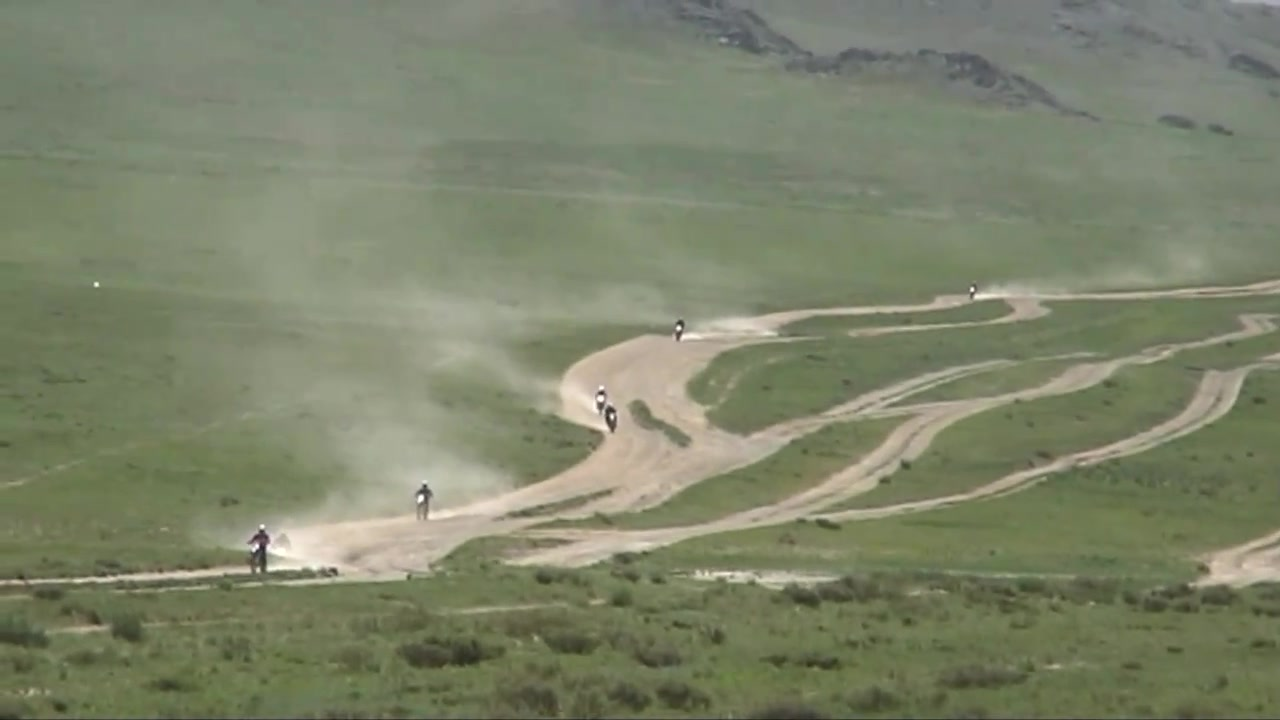motorbike: (251, 542, 276, 577), (411, 489, 435, 520), (601, 410, 622, 434), (671, 322, 687, 341), (595, 396, 613, 412), (967, 284, 985, 300)
